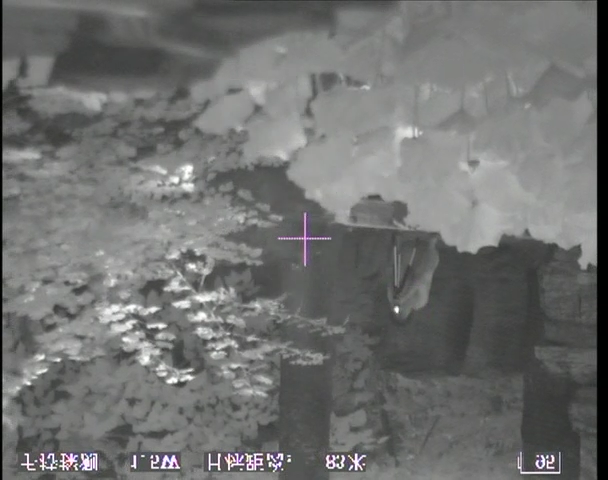my: (392, 304, 402, 315)
